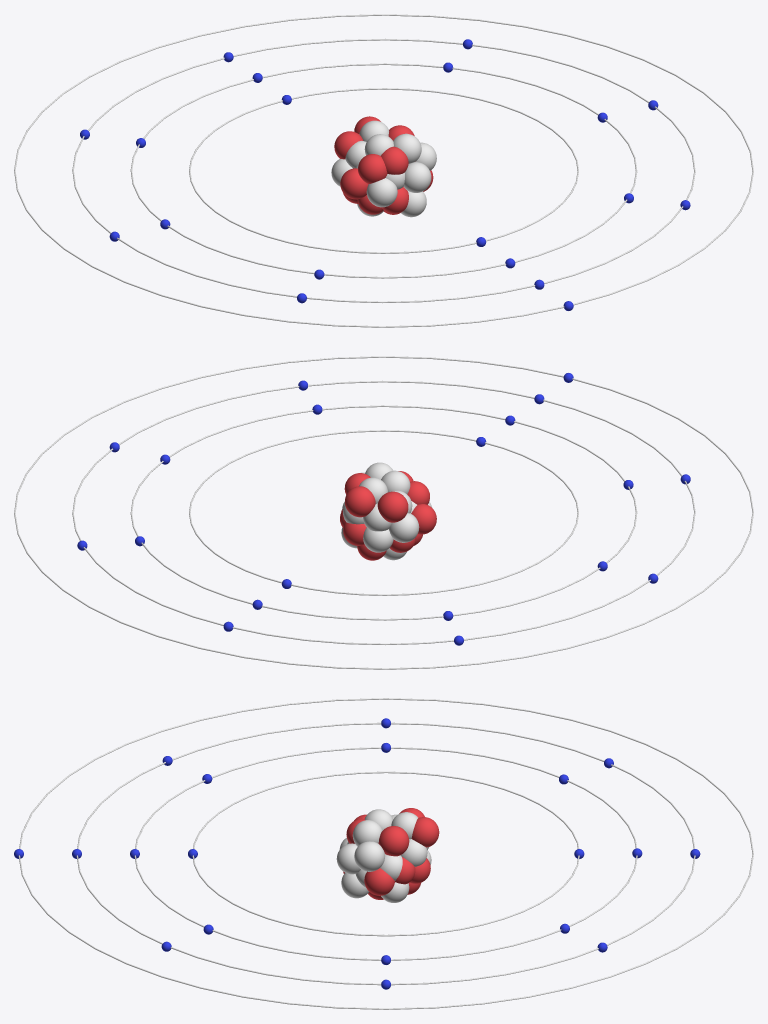
Rendered from Kalium.glb.
3 views of the same model, one above another, from view 1: azimuth 30°, elevation 25°; view 2: azimuth 150°, elevation 25°; view 3: azimuth 270°, elevation 25° (orthographic).
Parts seen in each view (by area): view 1: N-Schale, M-Schale, L-Schale, K-Schale, Neutron 15, Neutron 13, Proton 14, Proton 16, Proton 15, Neutron 20; view 2: N-Schale, M-Schale, L-Schale, K-Schale, Proton 17, Proton 18, Neutron 16, Neutron 8, Proton 16; view 3: N-Schale, M-Schale, L-Schale, K-Schale, Neutron 19, Proton 7, Proton 18, Proton 11, Neutron 20, Neutron 13.
Boxes of the visible parts, x1,y1,x2,y2 form: N-Schale: (14,14,753,327); M-Schale: (72,38,695,303); L-Schale: (130,63,637,278); K-Schale: (189,88,578,253); Neutron 15: (366,178,397,207); Neutron 13: (403,162,431,192); Proton 14: (358,154,387,183); Proton 16: (340,168,368,199); Proton 15: (381,146,408,174); Neutron 20: (393,133,421,163); N-Schale: (14,356,753,669); M-Schale: (72,380,695,645); L-Schale: (130,405,637,620); K-Schale: (189,430,578,595); Proton 17: (377,491,408,522); Proton 18: (345,486,375,517); Neutron 16: (389,513,419,542); Neutron 8: (363,527,393,552); Proton 16: (411,504,436,534); N-Schale: (18,698,753,1009); M-Schale: (76,722,695,985); L-Schale: (134,747,637,960); K-Schale: (192,771,579,936); Neutron 19: (354,841,384,871); Proton 7: (378,826,409,856); Proton 18: (411,817,439,847); Proton 11: (364,868,394,895); Neutron 20: (352,820,382,846); Neutron 13: (336,843,360,874).
Bounding box in the file's own units: 19.04 × 2.38 × 19.15.
